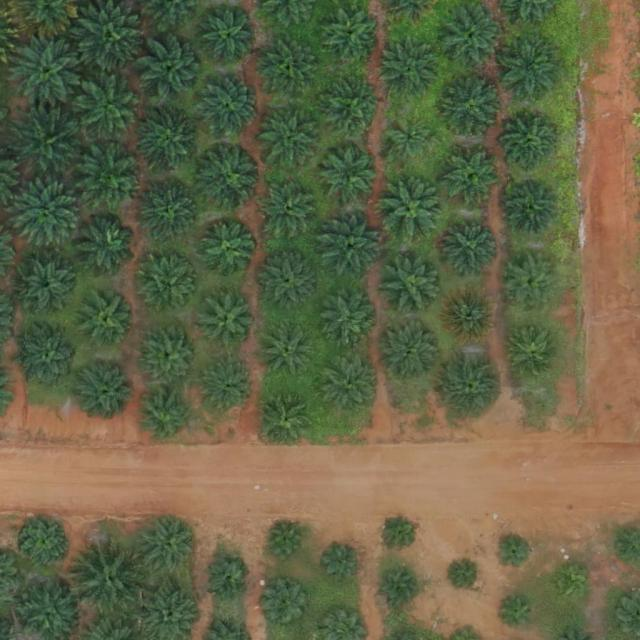Healthy: (72, 539, 150, 618), (11, 34, 82, 105), (11, 183, 82, 254), (75, 75, 145, 146), (9, 108, 80, 178), (74, 2, 144, 72), (440, 77, 503, 140), (320, 5, 383, 68), (259, 106, 322, 169), (257, 252, 320, 315), (139, 38, 202, 101), (139, 179, 202, 242), (19, 327, 82, 390), (140, 325, 203, 388), (380, 321, 443, 384), (442, 354, 505, 417), (137, 515, 200, 578), (439, 6, 502, 68), (383, 180, 445, 243), (321, 78, 383, 141), (320, 218, 382, 281), (260, 38, 322, 101), (259, 179, 321, 242), (197, 76, 259, 139), (200, 146, 262, 209), (138, 111, 200, 174), (82, 144, 144, 207), (75, 214, 137, 277), (77, 359, 139, 422), (318, 351, 380, 414), (382, 256, 444, 319), (499, 36, 561, 98), (380, 39, 442, 101), (505, 179, 560, 234), (447, 150, 502, 205), (443, 219, 498, 274), (201, 224, 256, 279), (142, 261, 197, 316), (18, 260, 73, 315), (140, 390, 195, 445), (201, 294, 256, 349), (203, 361, 258, 416), (263, 323, 318, 378), (261, 392, 316, 447), (327, 290, 382, 345), (509, 328, 564, 383), (505, 119, 559, 174), (505, 258, 559, 313), (323, 148, 377, 203), (203, 11, 257, 66), (82, 292, 136, 347), (23, 518, 70, 566)
Small: (387, 118, 434, 166), (203, 556, 250, 604), (264, 582, 311, 629), (380, 569, 420, 609), (267, 523, 306, 563), (324, 544, 363, 584), (380, 513, 419, 553), (498, 595, 537, 635), (496, 533, 535, 572), (552, 566, 591, 605), (452, 561, 483, 593)
Yellow: (443, 288, 498, 343)
